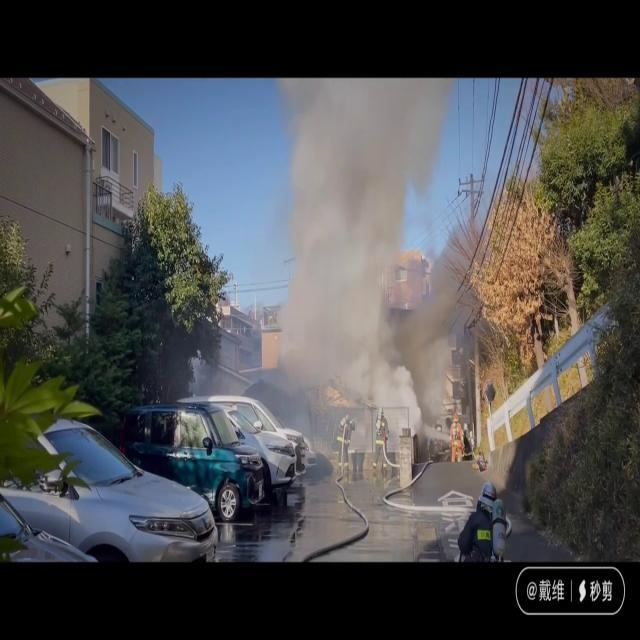Smoke: (256, 78, 460, 520)
